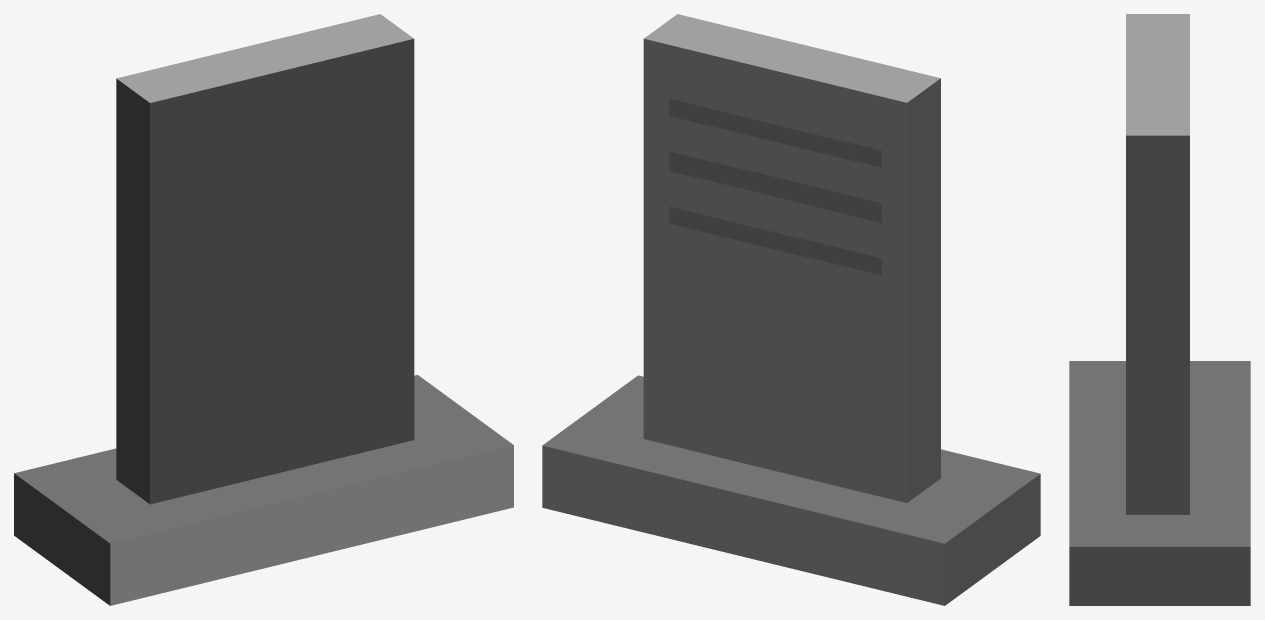
Rendered from grave_small_mesh.fbx.
3 views of the same model, side by side, from view 1: azimuth 30°, elevation 25°; view 2: azimuth 150°, elevation 25°; view 3: azimuth 270°, elevation 25° (orthographic). The views are drawn at different scales.
Parts seen in each view (by area): view 1: grave_small_mesh; view 2: grave_small_mesh; view 3: grave_small_mesh.
Boxes of the visible parts, left/top/right/bottom form: grave_small_mesh: left=14, top=14, right=513, bottom=605; grave_small_mesh: left=542, top=14, right=1040, bottom=605; grave_small_mesh: left=1069, top=14, right=1250, bottom=605.
Bounding box in the file's own units: 1.39 × 1.53 × 0.5727.
